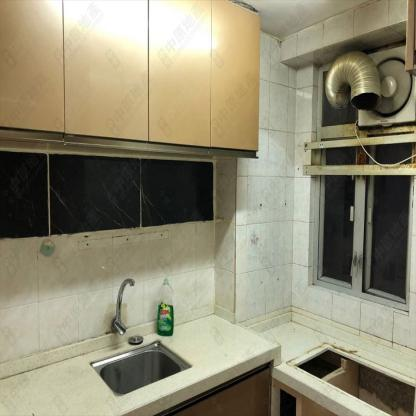Cupboard: (1, 0, 262, 155)
Exhaust Fan: (357, 44, 416, 127)
Faucet: (109, 272, 136, 337)
Sink: (89, 340, 194, 395)
